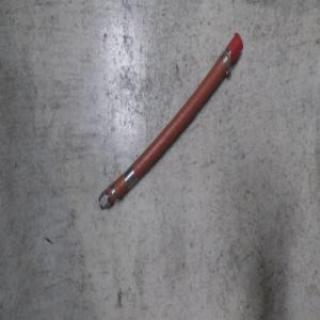Hosetrack_idkeyframe: (96, 30, 245, 213)
